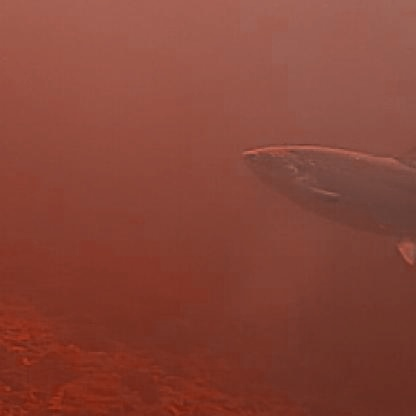salmon: (234, 132, 414, 274)
